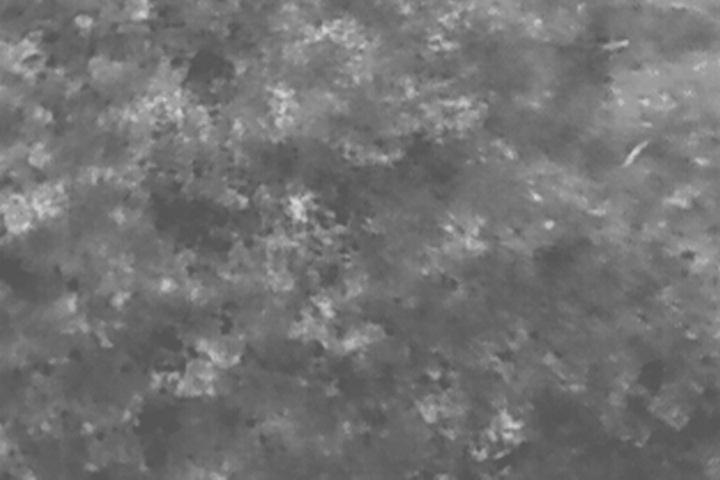landmine: (288, 192, 316, 226)
